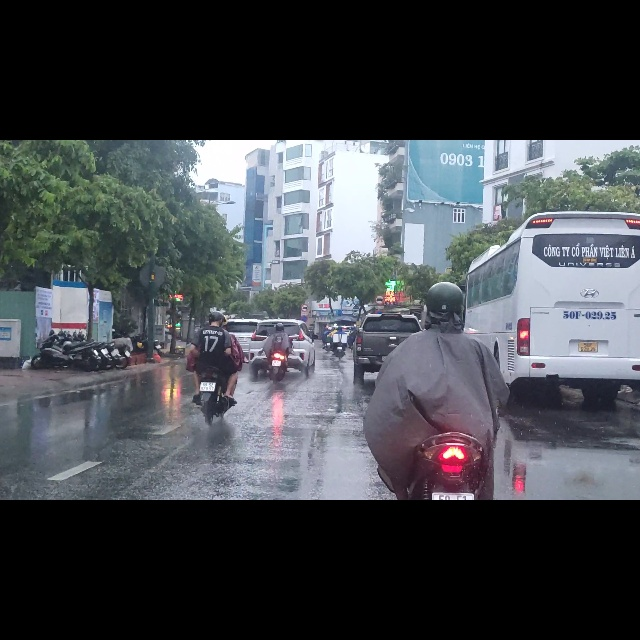bien_cam: (375, 275, 385, 293), (301, 292, 308, 305), (301, 311, 308, 324)
